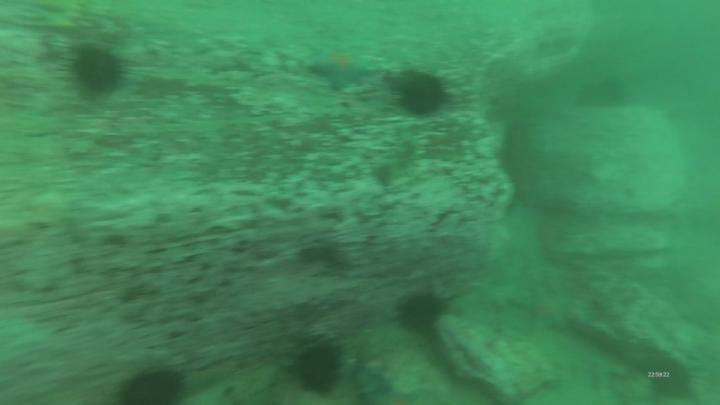echinus: (295, 344, 339, 392), (122, 373, 181, 405), (401, 73, 442, 115), (73, 52, 119, 89), (401, 295, 443, 327)
starfish: (522, 289, 572, 335), (312, 51, 370, 88)
